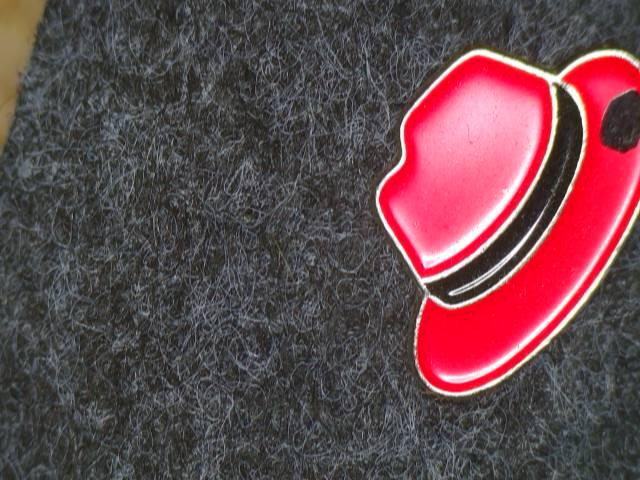Red-Hat: (357, 23, 640, 424)
Scratch: (589, 74, 640, 167)
